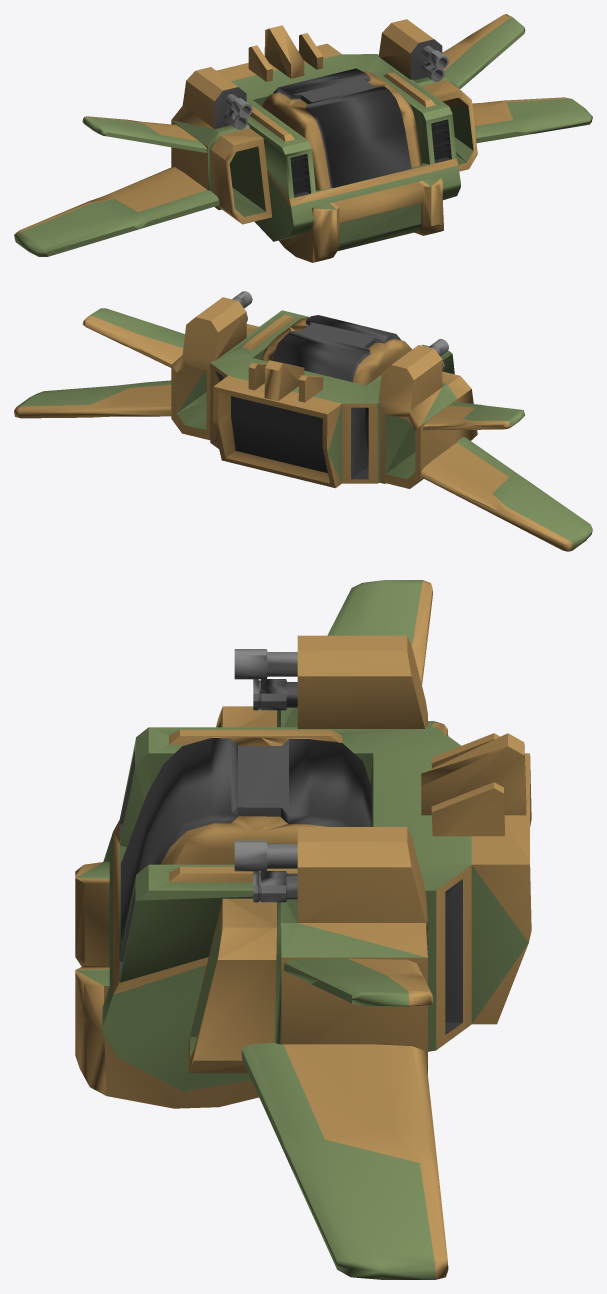
Rendered from space-ship.glb.
3 renders of one model, top to bottom at view 1: azimuth 30°, elevation 25°; view 2: azimuth 150°, elevation 25°; view 3: azimuth 270°, elevation 25°, orthographic. The views are drawn at different scales.
Parts seen in each view (by area): view 1: space-ship; view 2: space-ship; view 3: space-ship.
Boxes of the visible parts, x1,y1,x2,y2 form: space-ship: (14, 14, 592, 262); space-ship: (14, 291, 592, 551); space-ship: (75, 580, 531, 1279).
Size of the model in its own units: 11.41 by 3 by 4.03.
